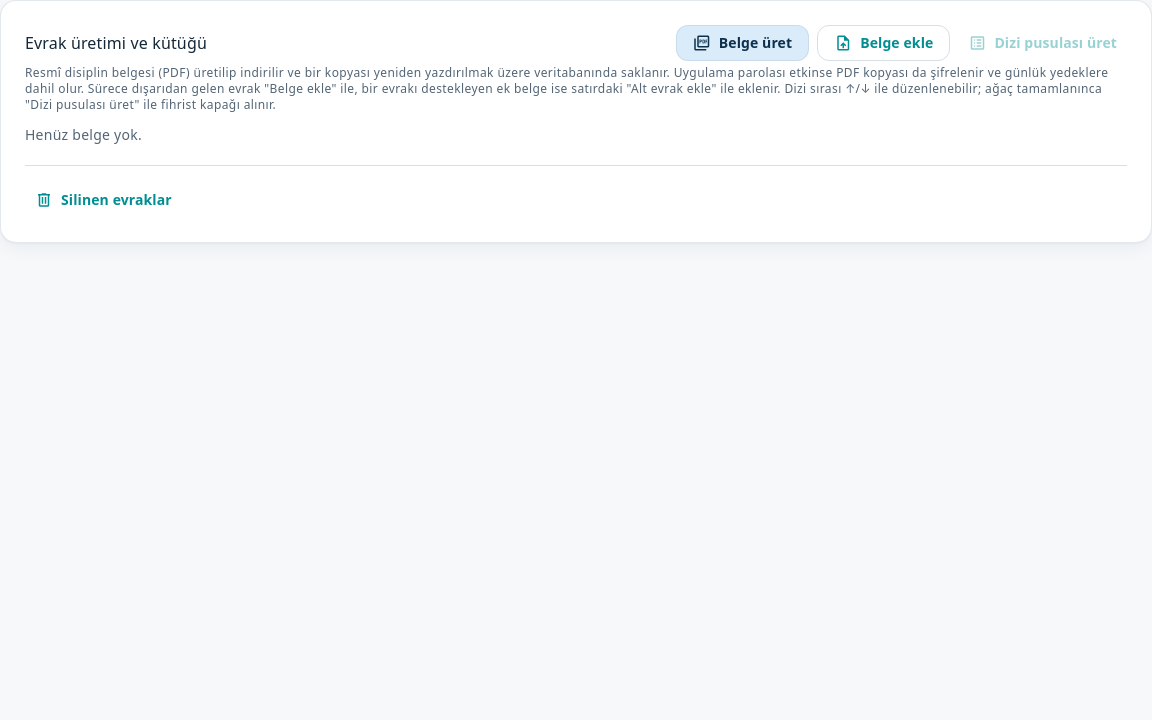
Test: DocumentsSection — belge üretiminde kişi değişimi › katılımcı değişince ifade konusu ve gövdesi sıfırlanır
The width and height of the screenshot is (1152, 720).
Click the button "Belge üret" at (742, 43), box [676,25,809,61]
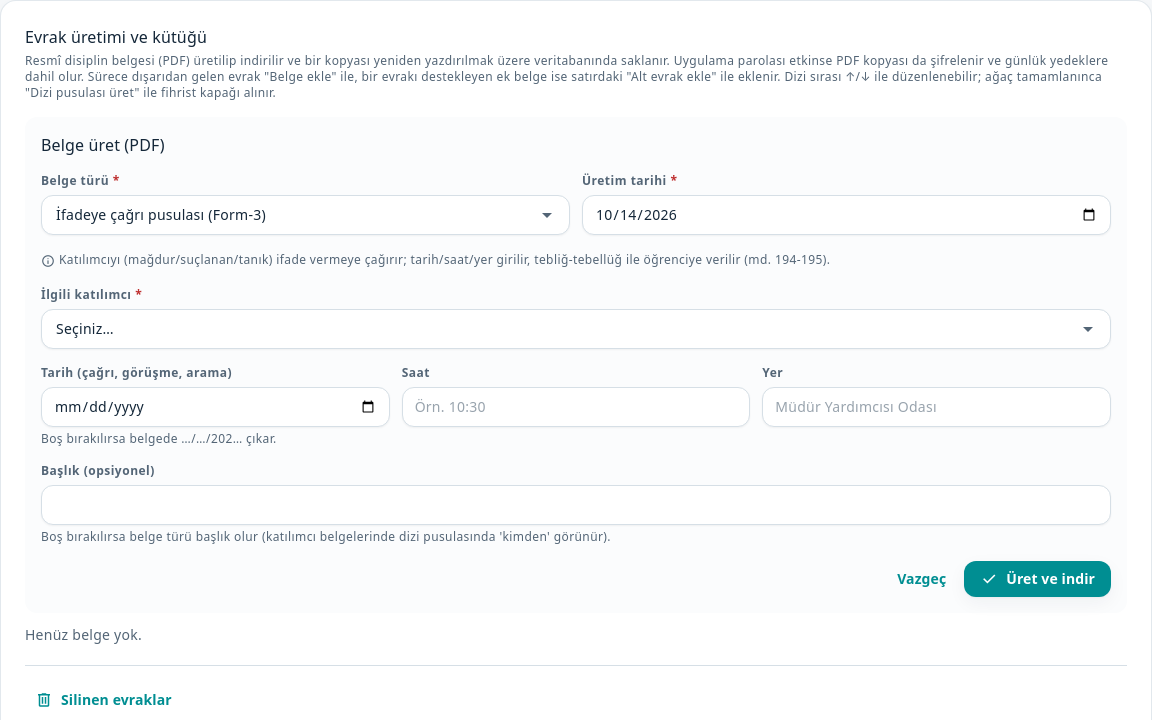
Select "İfade tutanağı (Form-4/5/6)" in the dropdown labelled "Belge türü *" at (294, 215), box [52,205,535,225]
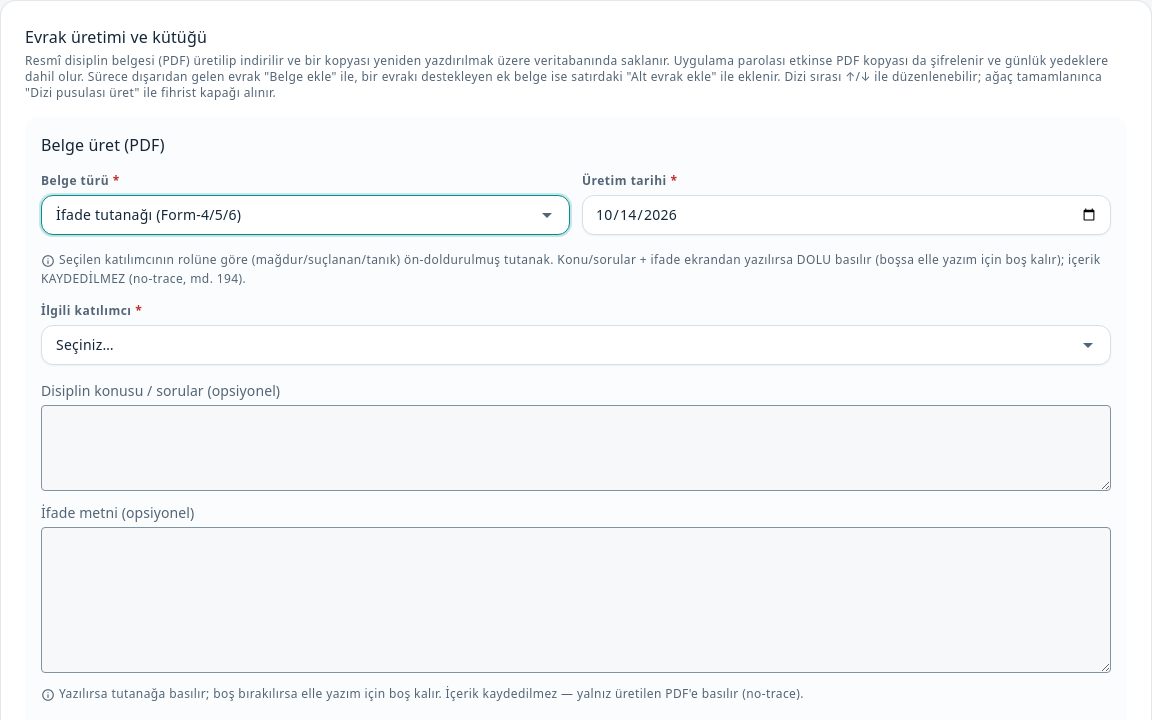
Select "Ayşe Yılmaz · Hakkında İşlem Yapılan" in the dropdown labelled "İlgili katılımcı *" at (564, 345), box [52,335,1076,355]
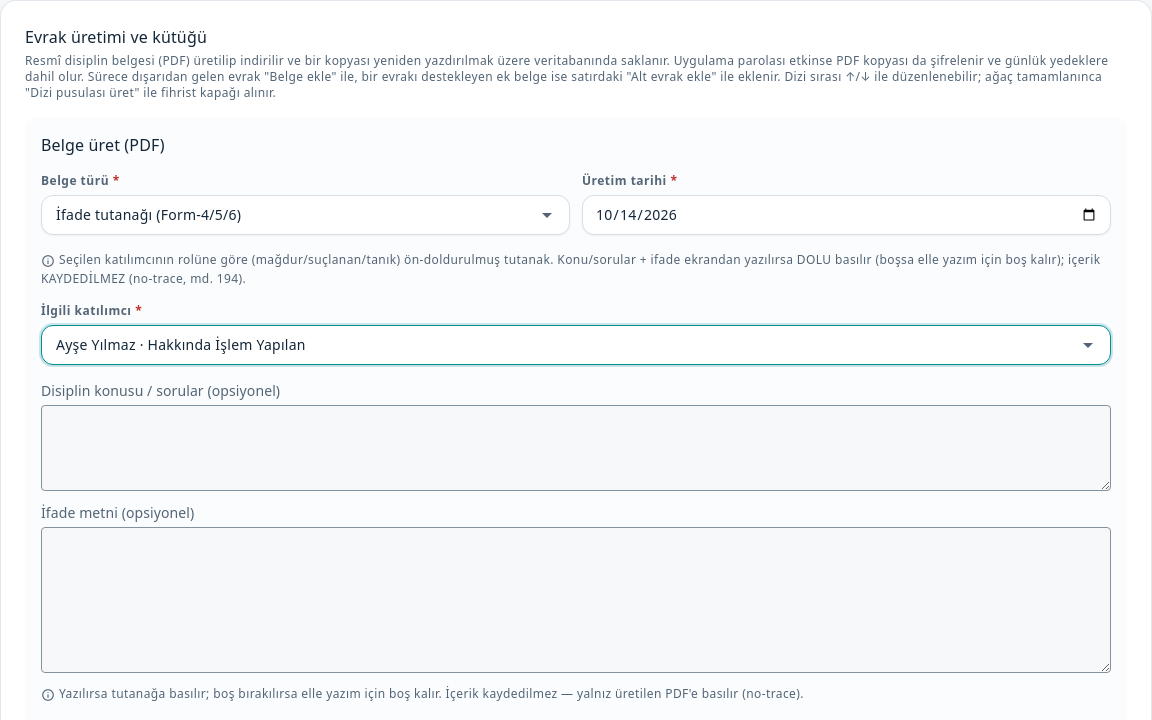
Type "Kantin olayı" into the text box labelled "Disiplin konusu / sorular (opsiyonel)" at (576, 448), box [41,405,1111,491]
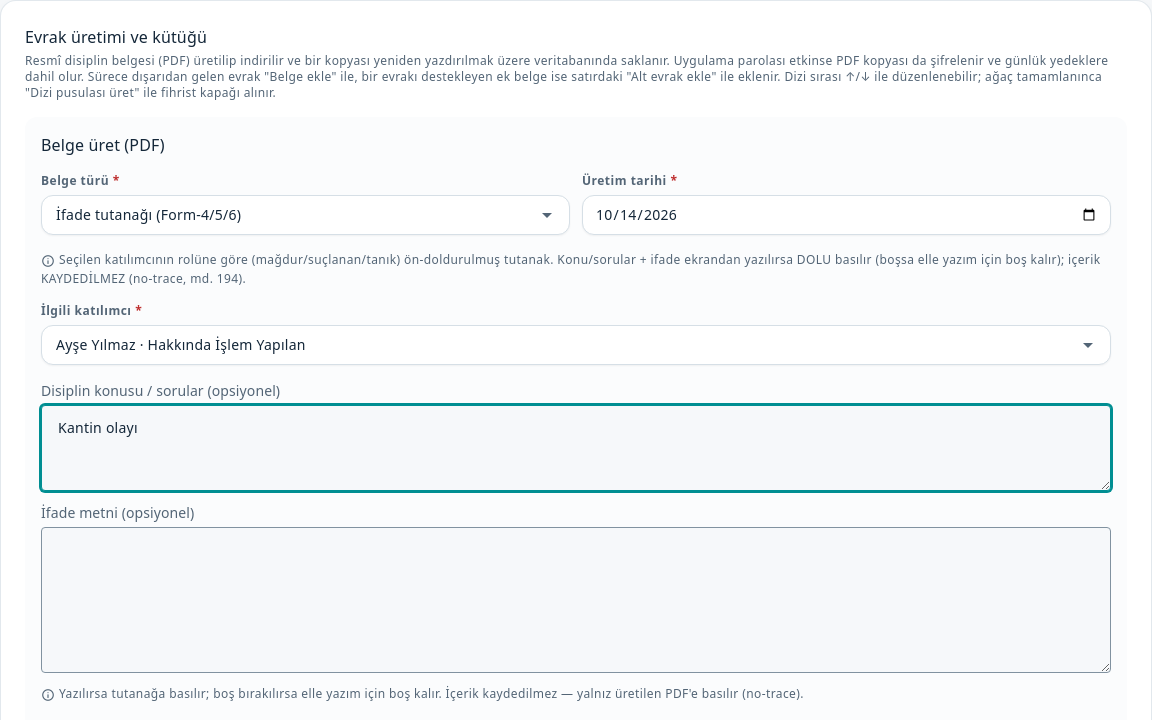
Type "Ben olay sırasında sınıftaydım." into the text box labelled "İfade metni (opsiyonel)" at (576, 600), box [41,527,1111,673]
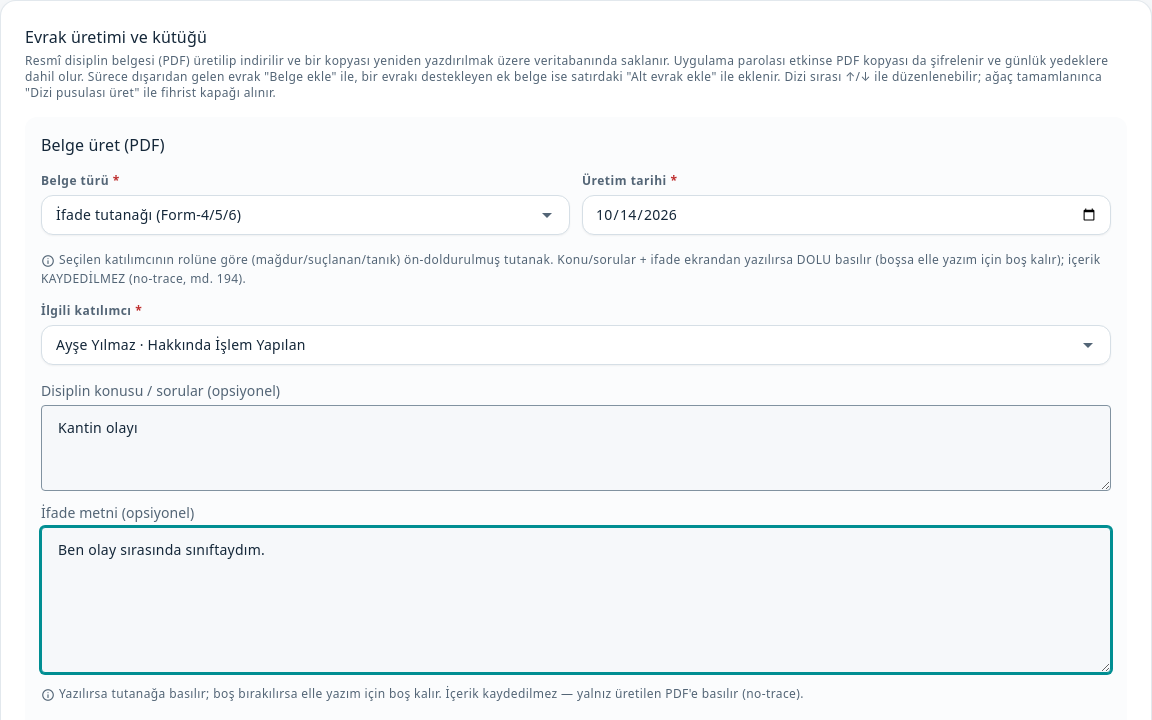
Select "Mehmet Kaya · Hakkında İşlem Yapılan" in the dropdown labelled "İlgili katılımcı *" at (564, 345), box [52,335,1076,355]
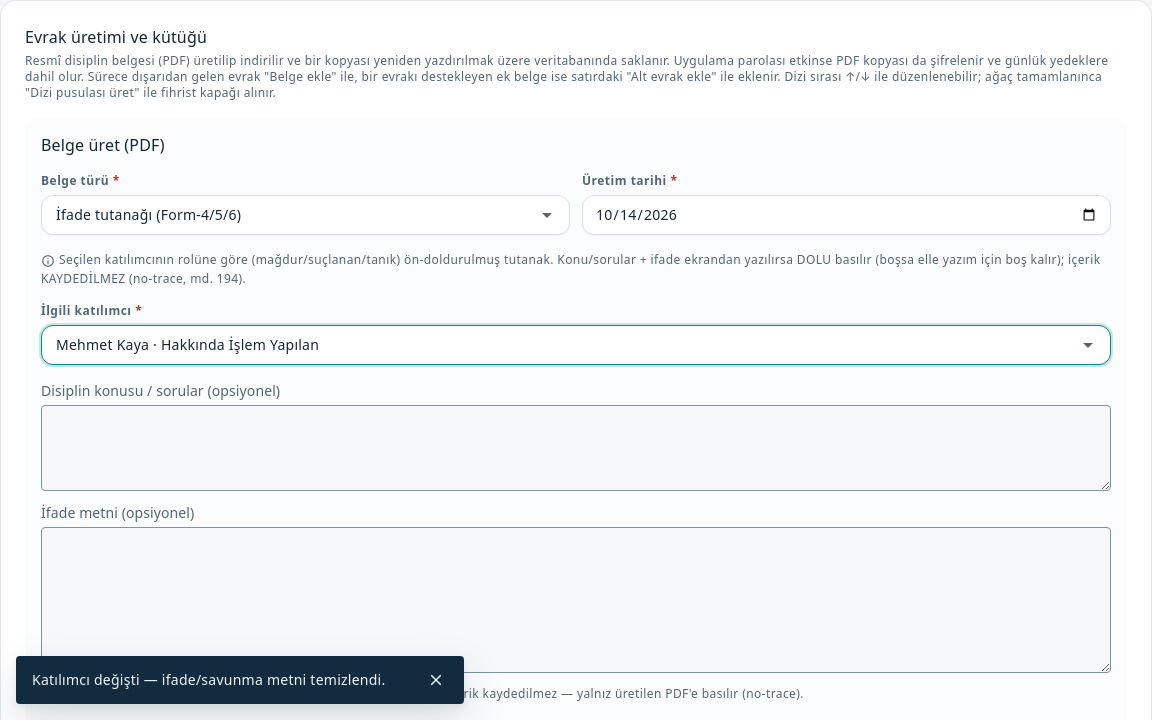
Expected: the text box labelled "Disiplin konusu / sorular (opsiyonel)" is empty, [41,405,1111,491]
Expected: the text box labelled "İfade metni (opsiyonel)" is empty, [41,527,1111,673]
Expected: the text "Katılımcı değişti — ifade/savunma metni temizlendi." is shown, [32,670,386,689]
